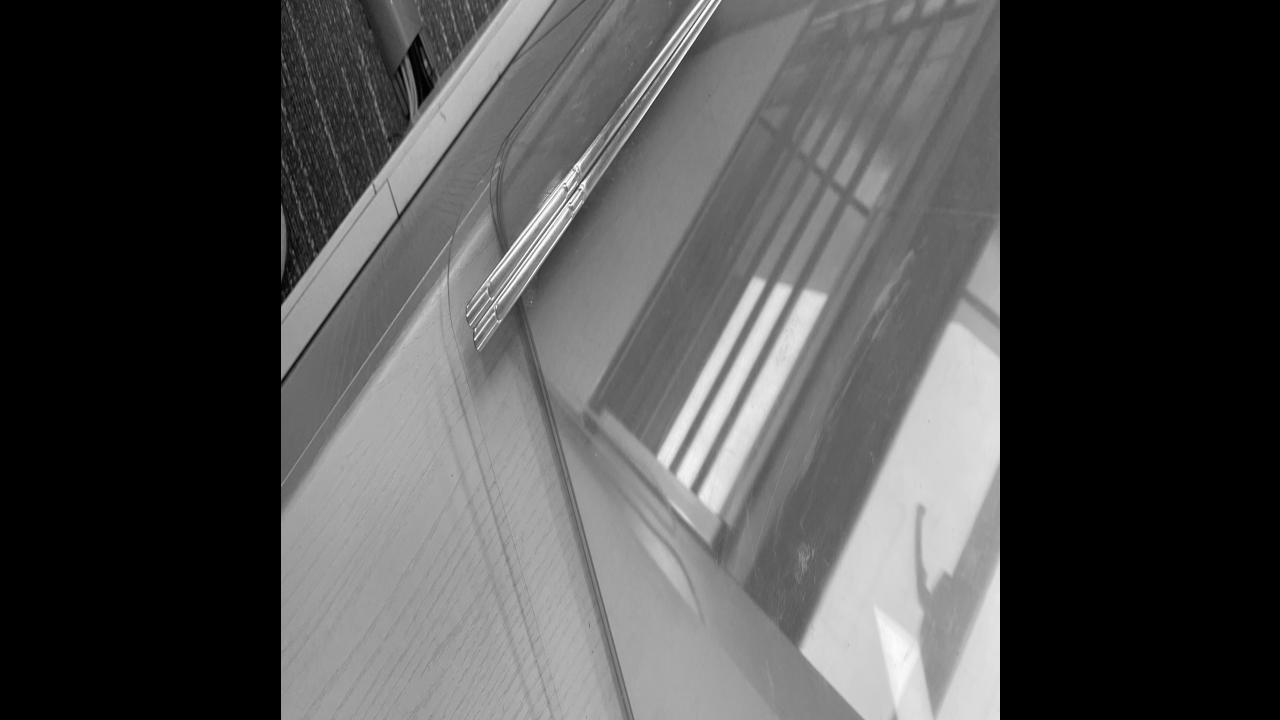chopstick: (460, 0, 730, 361)
